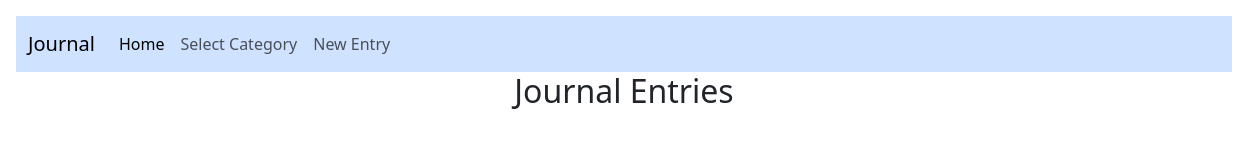
Test case: App Component › Renders categoryselection component when new entry is clicked
Click the link "New Entry": (352, 44) [313,33,390,55]
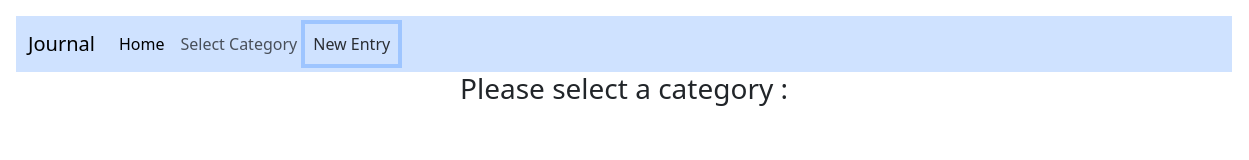
Result: the heading "Please select a category :" is shown at [460,69,788,107]
